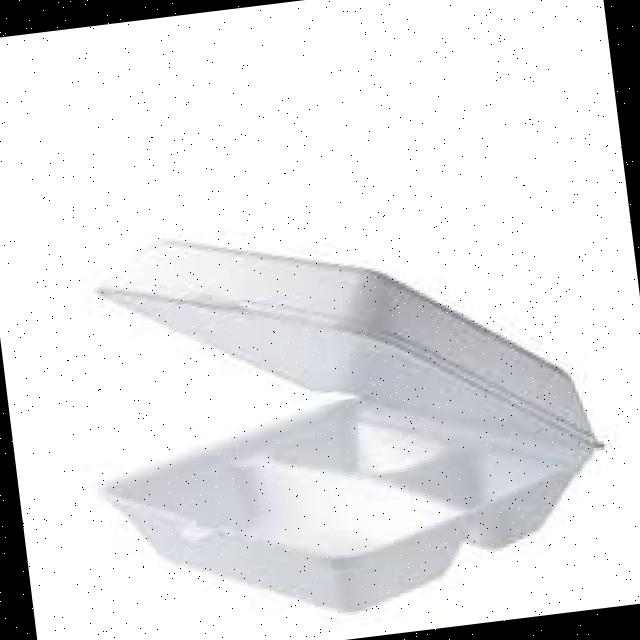styrofoam: (69, 180, 620, 640)
